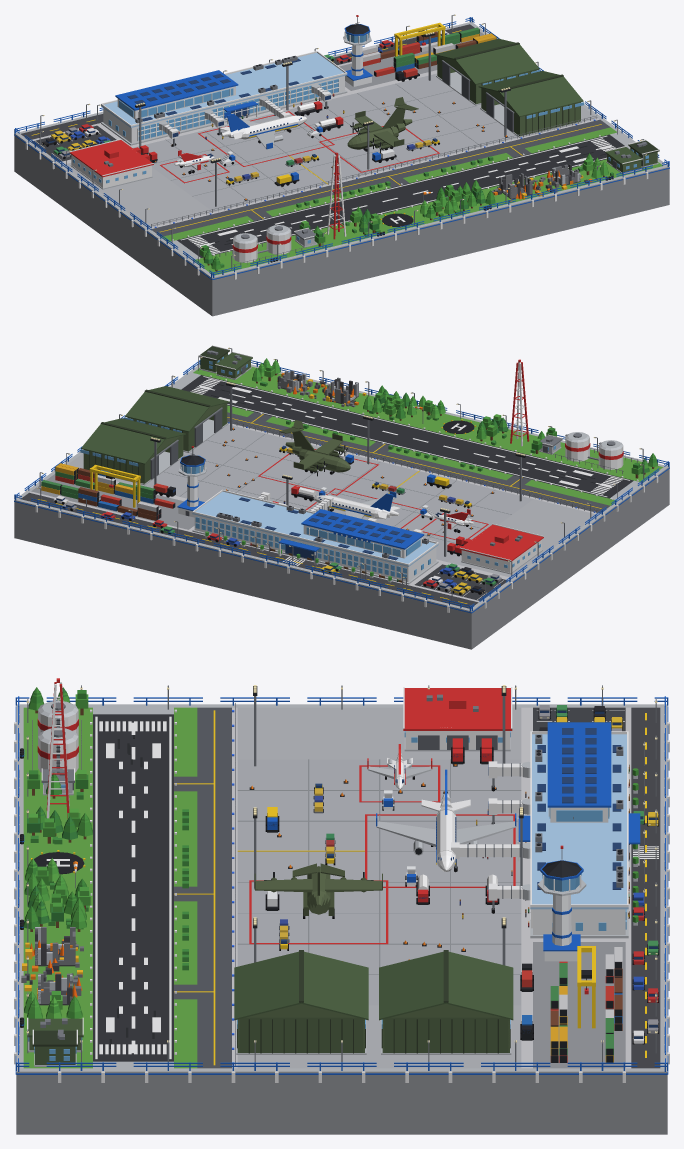
File: AirportIsland_LowPoly.glb
3 renders of one model, top to bottom at view 1: azimuth 30°, elevation 25°; view 2: azimuth 150°, elevation 25°; view 3: azimuth 270°, elevation 25°, orthographic. The views are drawn at different scales.
Visible parts, largest first — view 1: Island, Terminal, Hangars, Props, Buildings, Aircraft, Vehicles, Trees, Island_2; view 2: Island, Terminal, Hangars, Props, Buildings, Vehicles, Aircraft, Trees, Island_2; view 3: Island, Terminal, Hangars, Buildings, Props, Trees, Aircraft, Vehicles.
Boxes of the visible parts, x1,y1,x2,y2 form: Island: [14, 14, 669, 316]; Terminal: [101, 15, 372, 146]; Hangars: [434, 38, 584, 137]; Props: [178, 22, 613, 266]; Buildings: [69, 139, 659, 247]; Aircraft: [174, 97, 418, 174]; Vehicles: [42, 31, 449, 186]; Trees: [199, 153, 613, 271]; Island_2: [151, 115, 597, 226]; Island: [14, 347, 669, 649]; Terminal: [177, 446, 438, 584]; Hangars: [80, 386, 229, 485]; Props: [41, 359, 638, 582]; Buildings: [198, 345, 562, 574]; Vehicles: [53, 445, 501, 595]; Aircraft: [279, 420, 474, 532]; Trees: [252, 358, 657, 478]; Island_2: [227, 420, 597, 512]; Island: [14, 685, 669, 1134]; Terminal: [451, 722, 640, 961]; Hangars: [234, 950, 513, 1054]; Buildings: [21, 687, 512, 1066]; Props: [20, 678, 638, 1062]; Trees: [23, 687, 188, 1018]; Aircraft: [254, 744, 516, 918]; Vehicles: [265, 705, 658, 1044].
Size of the model in its own units: 302 by 75.6 by 227.
1 material, 1 textured.
